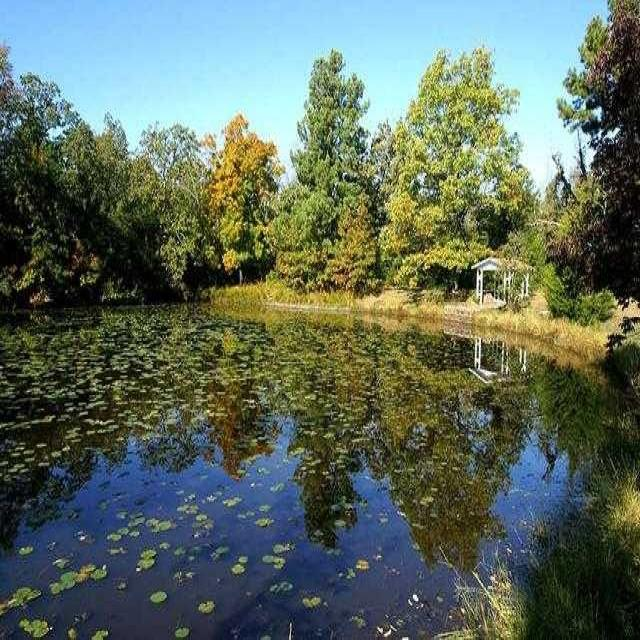Ponds: (1, 305, 636, 639)
